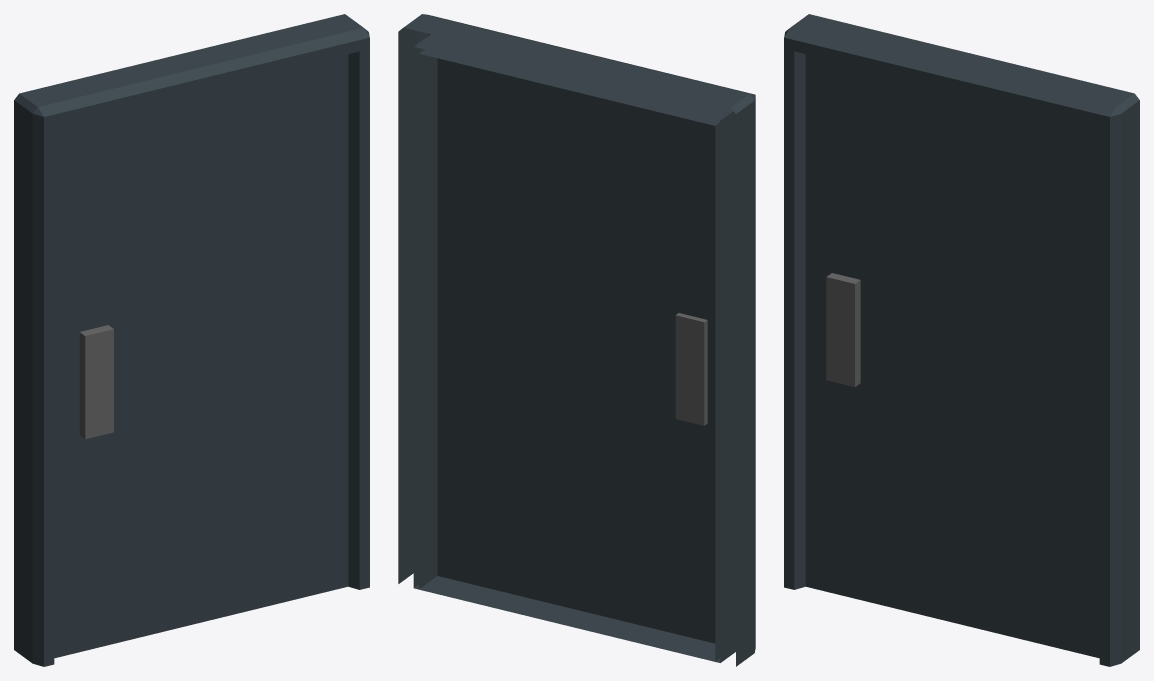
The model's file is obj_door_b.fbx.
The picture shows the model from 3 angles, left to right: view 1: azimuth 30°, elevation 25°; view 2: azimuth 150°, elevation 25°; view 3: azimuth 330°, elevation 25°; orthographic projection.
Parts seen in each view (by area): view 1: obj_door_b; view 2: obj_door_b; view 3: obj_door_b.
Boxes of the visible parts, bbox=[...] form: obj_door_b: bbox=[14, 14, 369, 666]; obj_door_b: bbox=[398, 14, 755, 666]; obj_door_b: bbox=[784, 14, 1139, 666].
Size of the model in its own units: 1.18 by 1.86 by 0.1512.
Materials: 1 (1 with a texture image).
